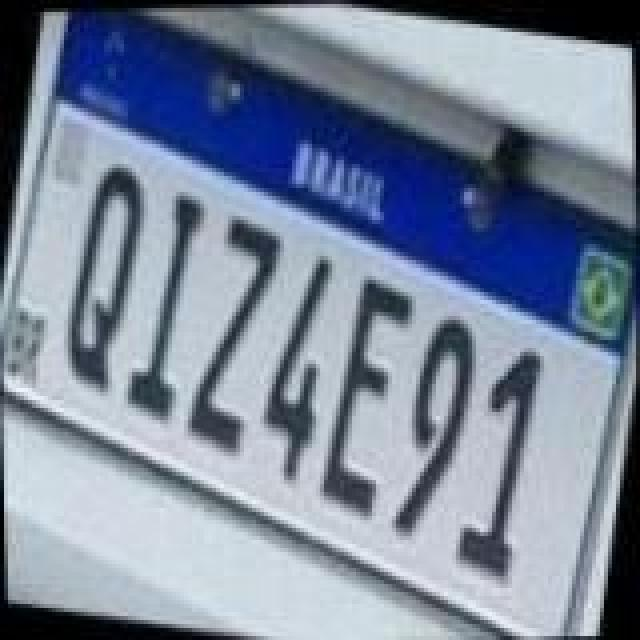1: (442, 330, 554, 590)
4: (244, 240, 348, 484)
9: (380, 300, 488, 544)
E: (308, 264, 428, 520)
I: (116, 182, 216, 430)
Q: (44, 152, 156, 400)
Z: (170, 206, 290, 462)
